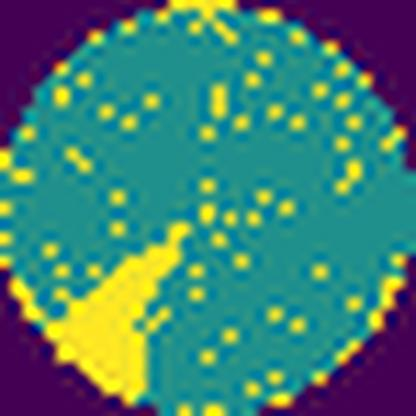Loc: (45, 220, 191, 403)
